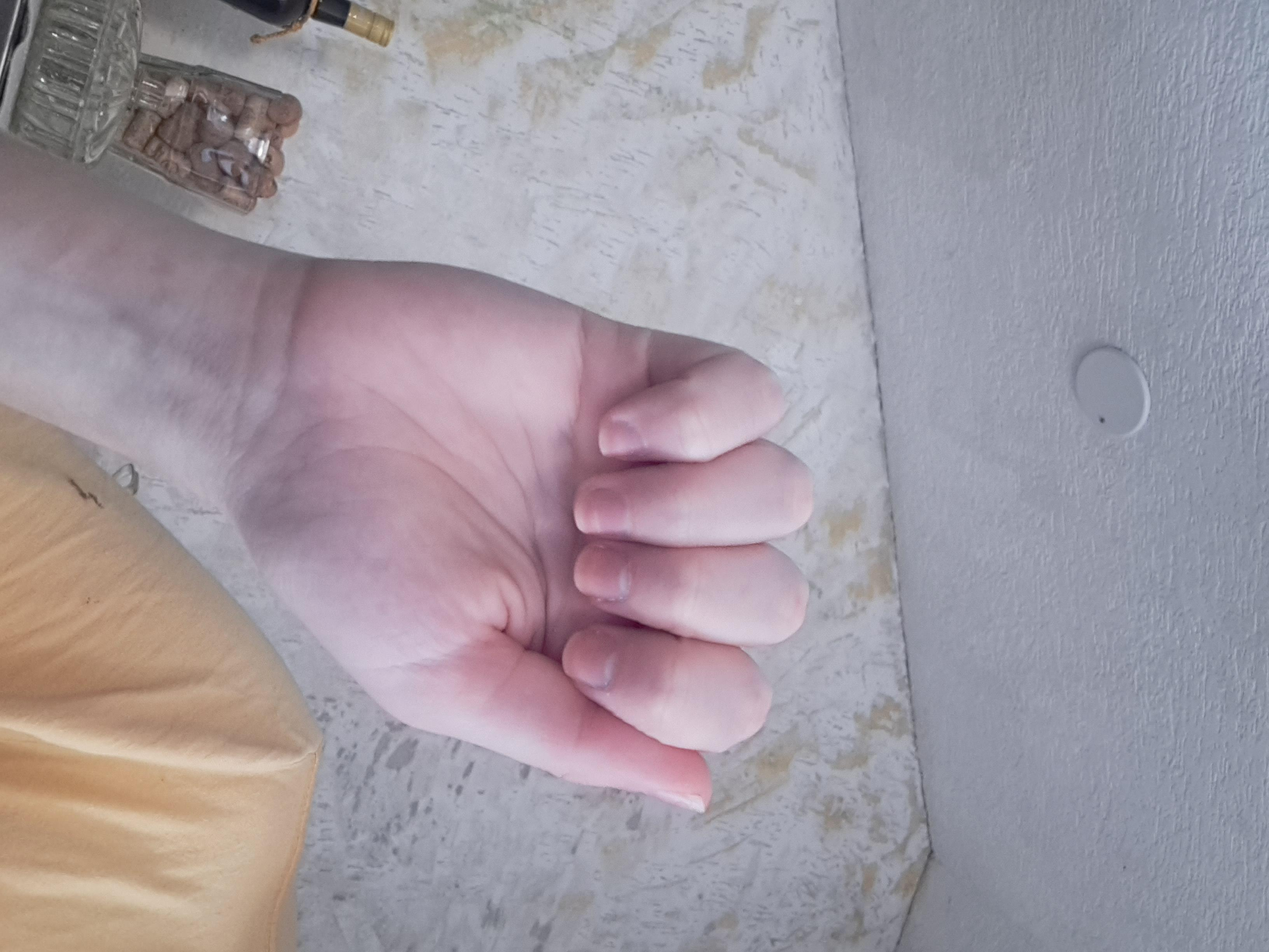A: (327, 327, 1094, 755)
